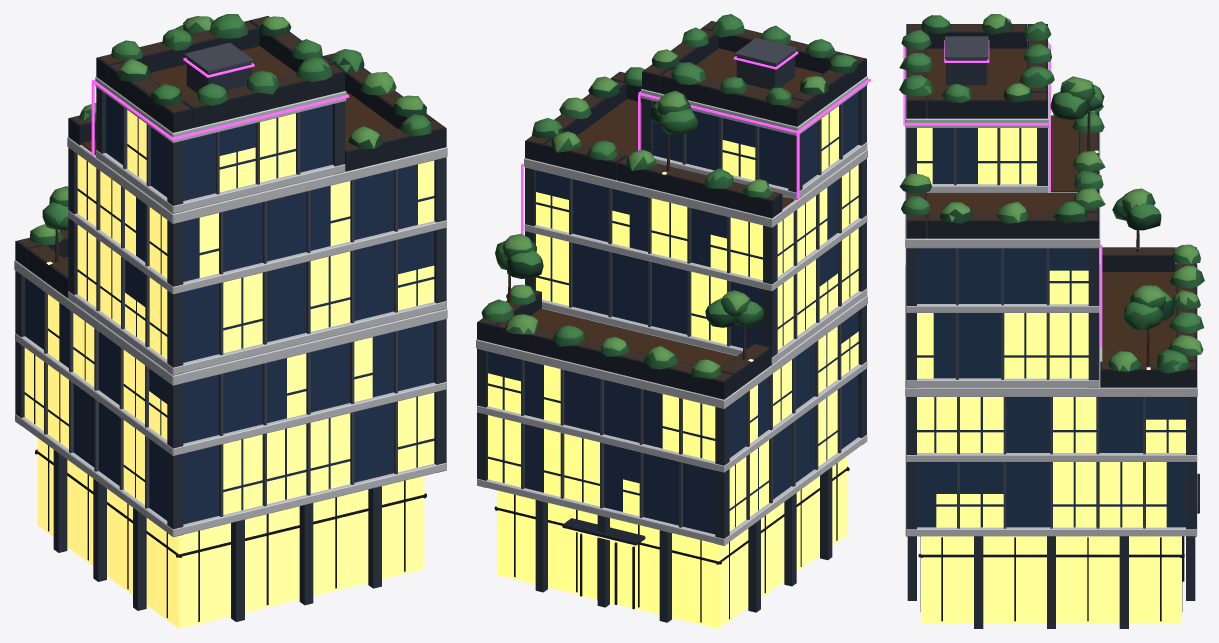
File: tower_b.glb
The picture shows the model from 3 angles, left to right: view 1: azimuth 30°, elevation 25°; view 2: azimuth 150°, elevation 25°; view 3: azimuth 270°, elevation 25°; orthographic projection. The views are drawn at different scales.
Visible parts, largest first — view 1: tower, garden, neon; view 2: tower, garden, neon; view 3: tower, garden, neon.
Part boxes in pixels (x1,y1,x2,y2): tower: (14,16,447,628); garden: (30,14,431,262); neon: (91,58,349,154); tower: (476,21,867,628); garden: (481,14,857,378); neon: (521,51,870,234); tower: (905,24,1199,628); garden: (899,14,1204,373); neon: (903,40,1102,346).
Size of the model in its own units: 11.85 by 21.34 by 11.91.
